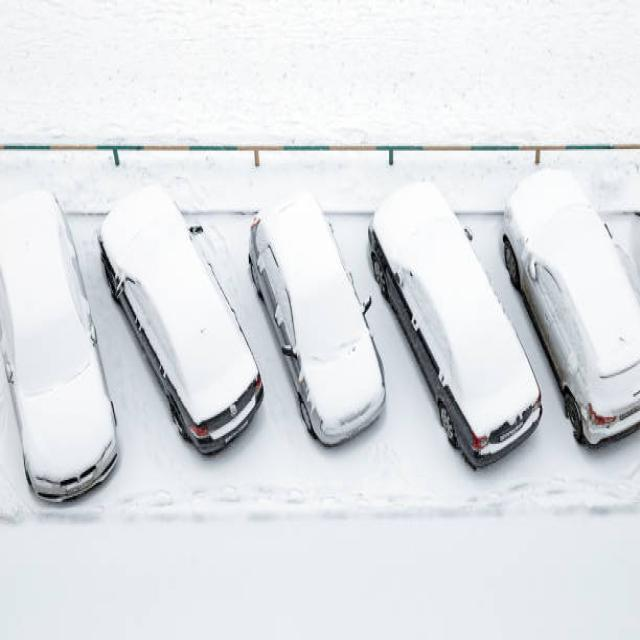car: (367, 185, 541, 470), (93, 187, 264, 456), (504, 172, 640, 445), (246, 187, 386, 450), (1, 193, 117, 504)
